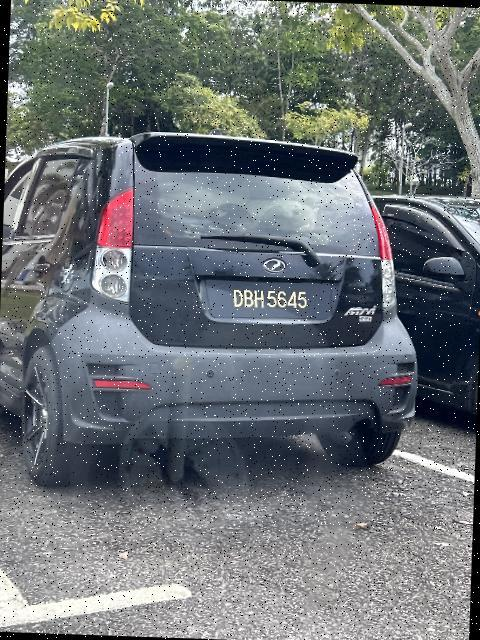License_Plate: (205, 277, 335, 326)
car: (1, 120, 433, 506)
